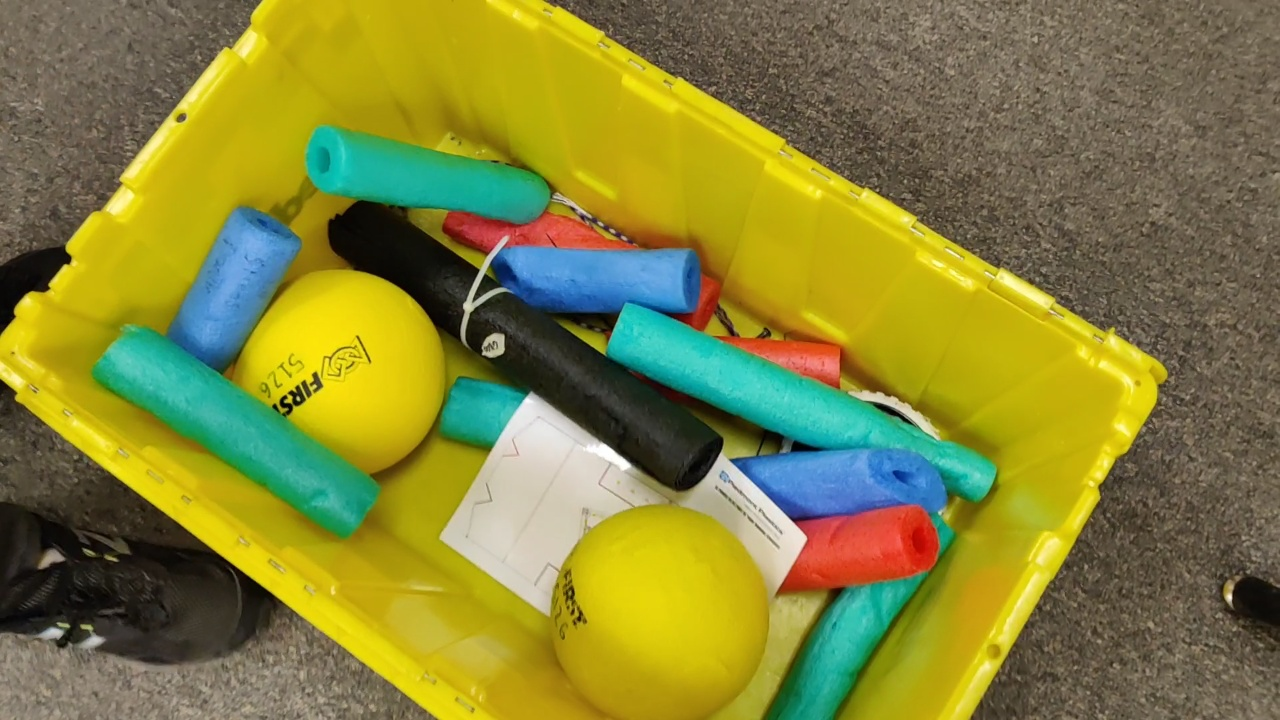Ball: (550, 502, 768, 717), (233, 272, 446, 474)
